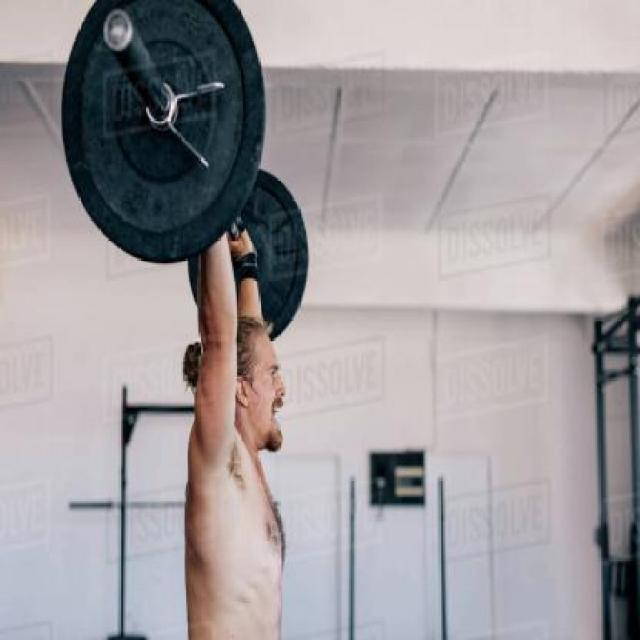Barbell: (101, 4, 132, 53)
